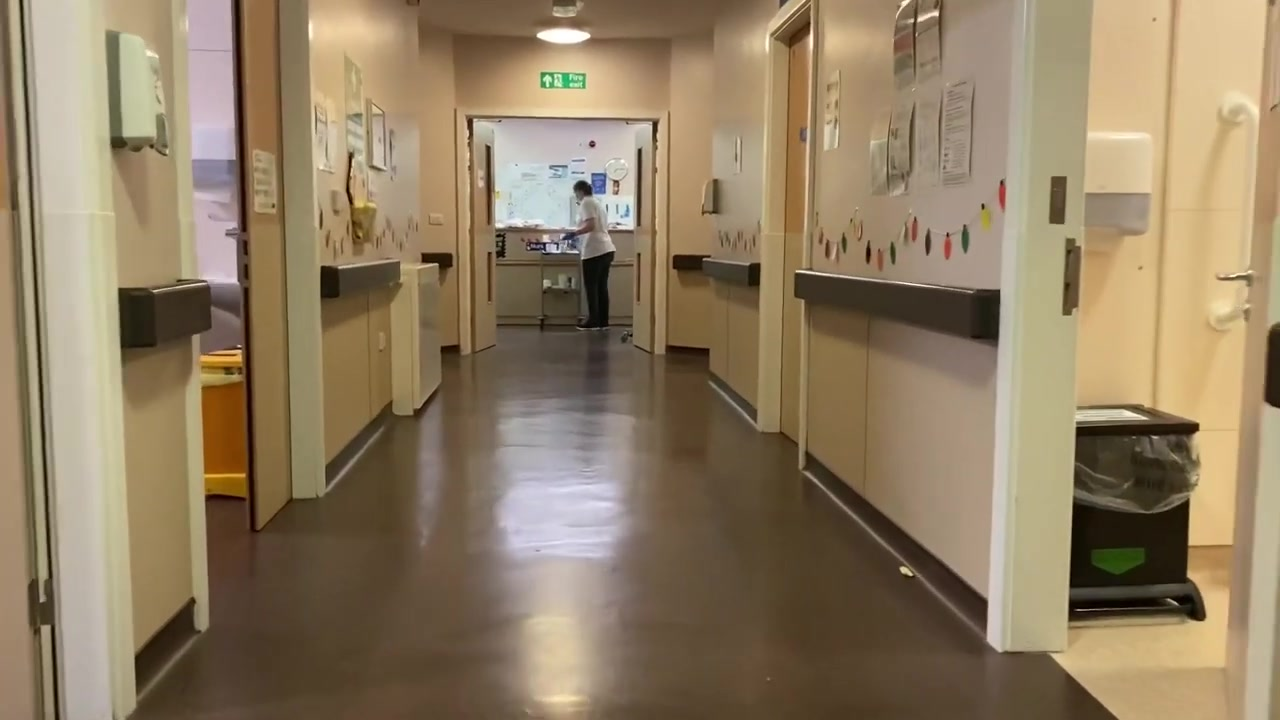dispenser: (105, 28, 170, 158), (1085, 129, 1152, 240), (191, 125, 236, 202), (700, 177, 720, 217)
hallway_assist_bar: (794, 268, 1001, 341), (119, 278, 212, 349), (320, 256, 401, 301), (701, 256, 760, 288)
handle: (1212, 266, 1258, 289)
restroom_assist_bar: (1206, 89, 1265, 334)
staff: (561, 179, 617, 331)
utility_cart: (538, 243, 583, 333)
waste_bin: (1070, 403, 1207, 627), (201, 349, 247, 499)
